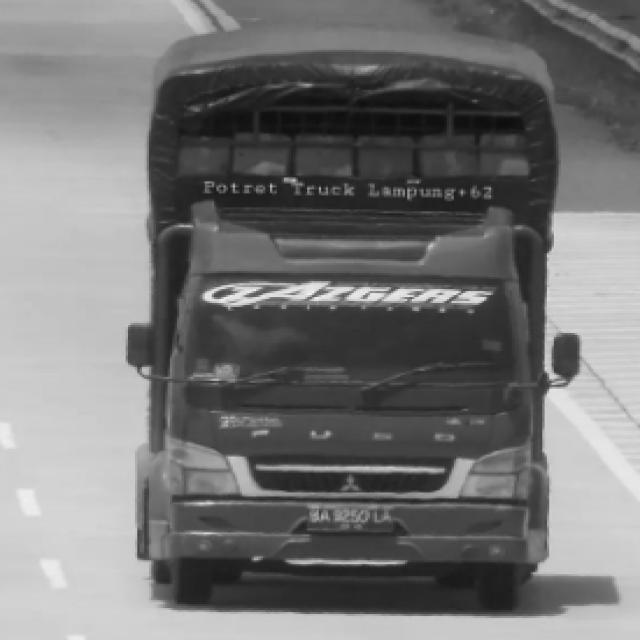Truck: (123, 32, 601, 619)
